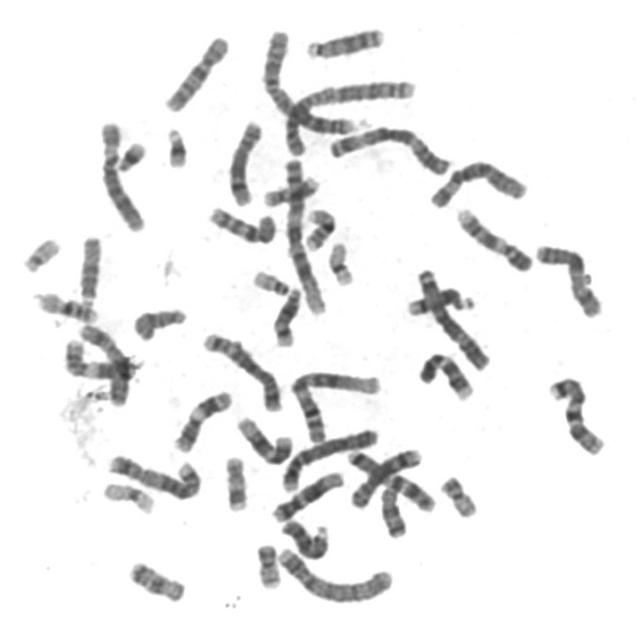A1: (278, 152, 330, 316), (284, 363, 384, 444)
A2: (278, 73, 420, 157), (255, 23, 360, 136)
A3: (410, 261, 492, 372), (322, 118, 453, 178)
B4: (272, 540, 398, 606), (274, 421, 382, 494)
B5: (196, 325, 285, 414), (100, 448, 202, 502)
C10: (157, 28, 233, 114), (202, 200, 280, 247)
C11: (167, 384, 234, 454), (58, 332, 140, 383)
C12: (266, 465, 346, 524), (230, 409, 296, 466)
C6: (93, 114, 149, 233), (423, 154, 530, 210)
C7: (341, 442, 433, 514), (542, 370, 608, 457)
C8: (341, 442, 432, 512), (221, 114, 265, 208)
C9: (450, 200, 535, 273), (412, 346, 477, 402)
D13: (300, 19, 386, 61), (276, 513, 332, 561)
D14: (402, 282, 478, 317), (266, 281, 304, 349)
D15: (127, 300, 189, 343), (72, 228, 104, 308)
E16: (28, 284, 101, 324), (298, 202, 339, 252)
E17: (258, 169, 322, 208), (219, 449, 251, 514)
E18: (122, 554, 188, 605), (375, 480, 410, 540)
F19: (97, 475, 157, 516), (321, 235, 357, 288)
F20: (434, 468, 481, 520), (250, 536, 283, 590)
G21: (158, 120, 191, 170), (111, 134, 149, 174)
G22: (16, 230, 63, 274), (246, 264, 292, 298)
X: (529, 237, 606, 320), (72, 318, 132, 408)
